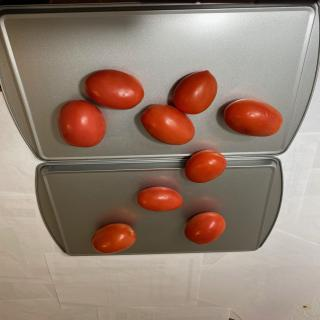Tomato: (84, 69, 144, 110), (57, 100, 106, 148), (224, 98, 283, 137), (141, 104, 195, 145), (172, 70, 218, 114), (184, 149, 227, 183), (91, 223, 137, 254), (184, 212, 226, 245), (137, 186, 184, 212)
